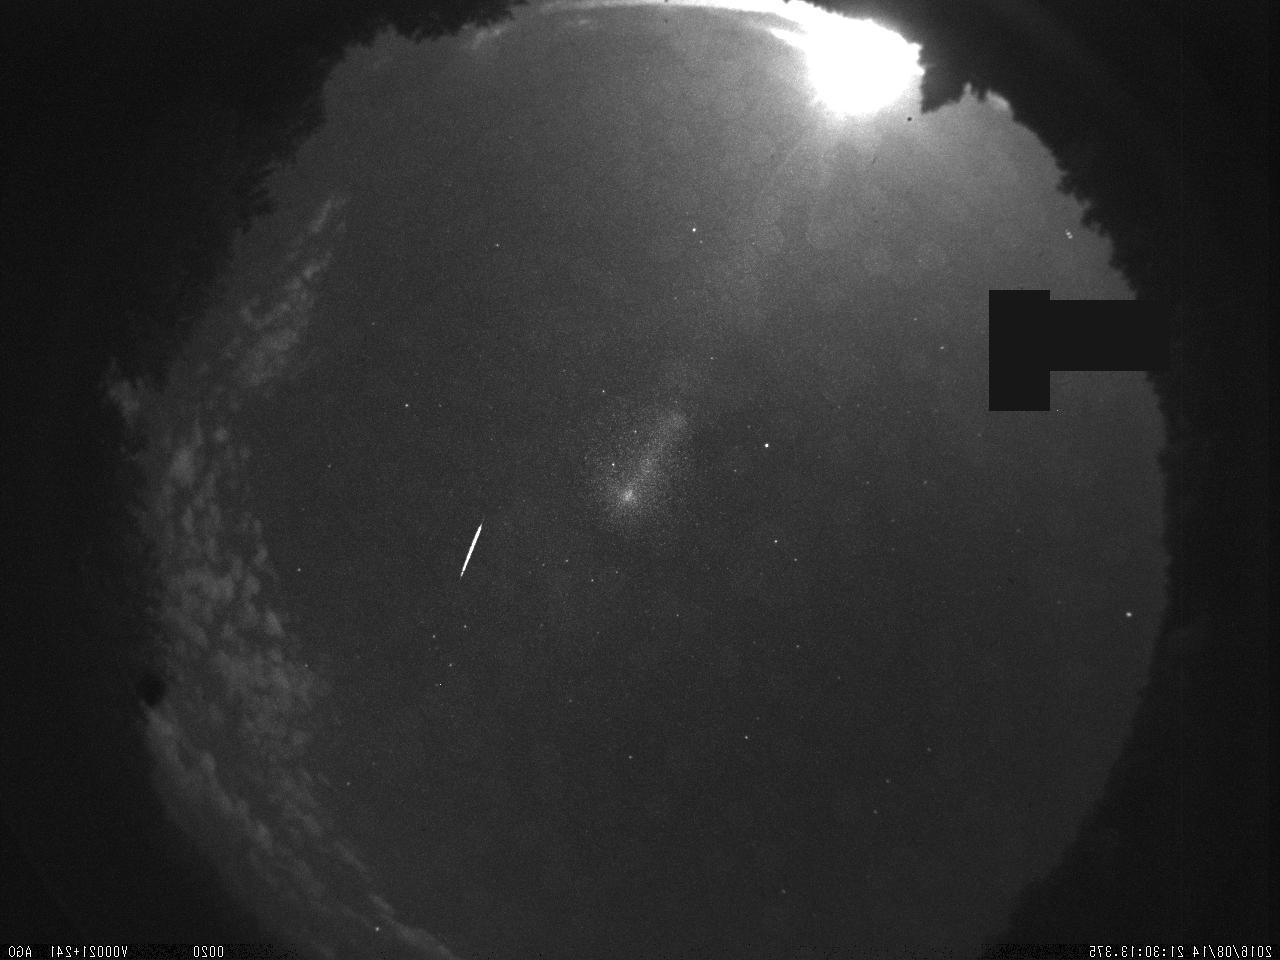meteor: (452, 517, 494, 582)
